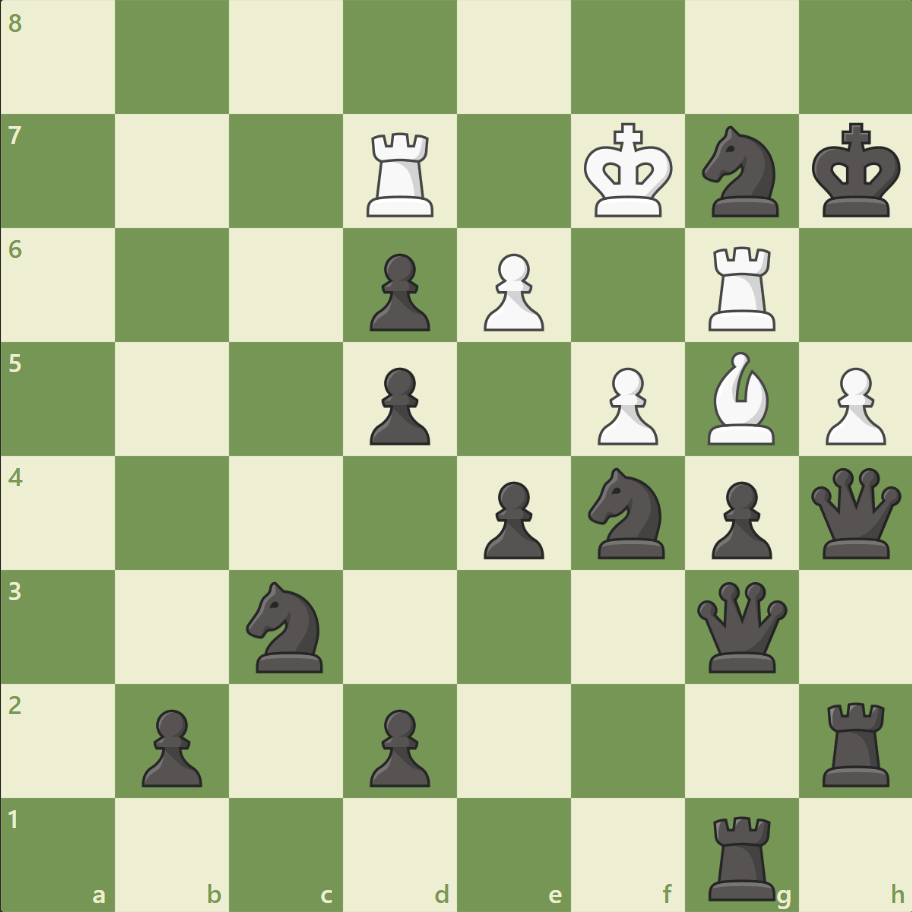B: (698, 347, 782, 449)
K: (579, 117, 679, 225)
P: (474, 246, 549, 337), (588, 359, 662, 450), (815, 359, 889, 450)
R: (700, 239, 783, 336), (360, 125, 442, 222)
k: (806, 117, 906, 225)
n: (579, 461, 676, 564), (692, 121, 789, 223), (238, 575, 335, 677)
p: (474, 473, 549, 564), (701, 473, 776, 564), (133, 700, 208, 791), (361, 246, 435, 337), (361, 359, 435, 450), (361, 700, 435, 791)
q: (691, 576, 790, 676), (805, 463, 904, 562)
r: (700, 806, 783, 904), (814, 693, 897, 790)
